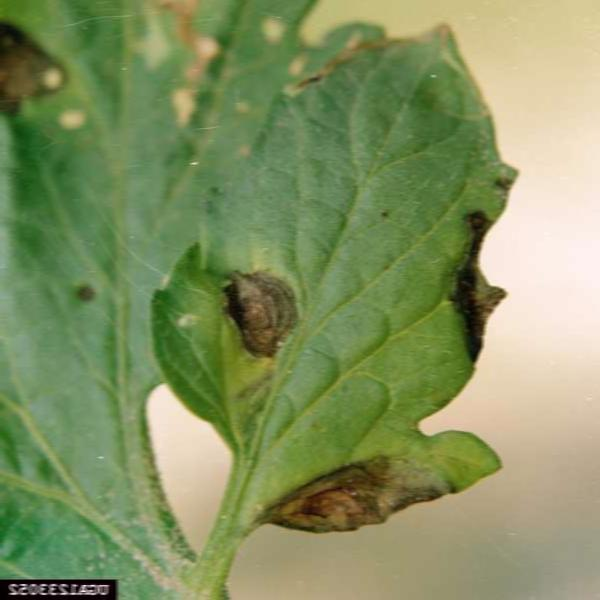Tomato leaf late blight: (113, 11, 531, 583)
